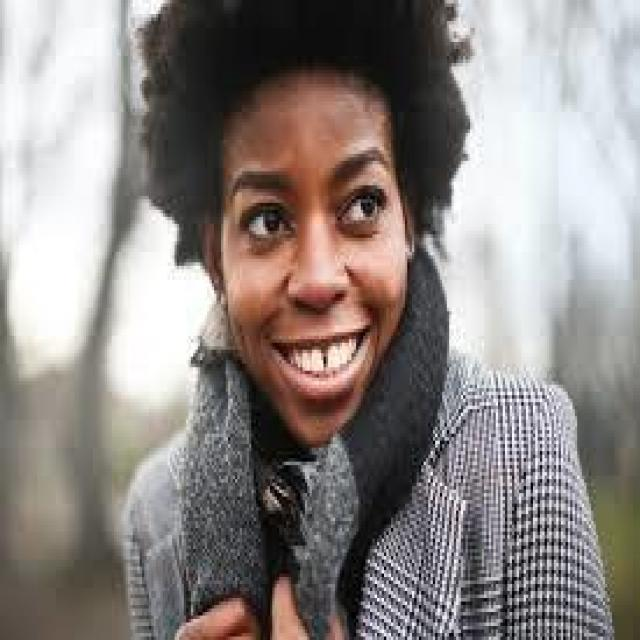person: (53, 0, 602, 626)
